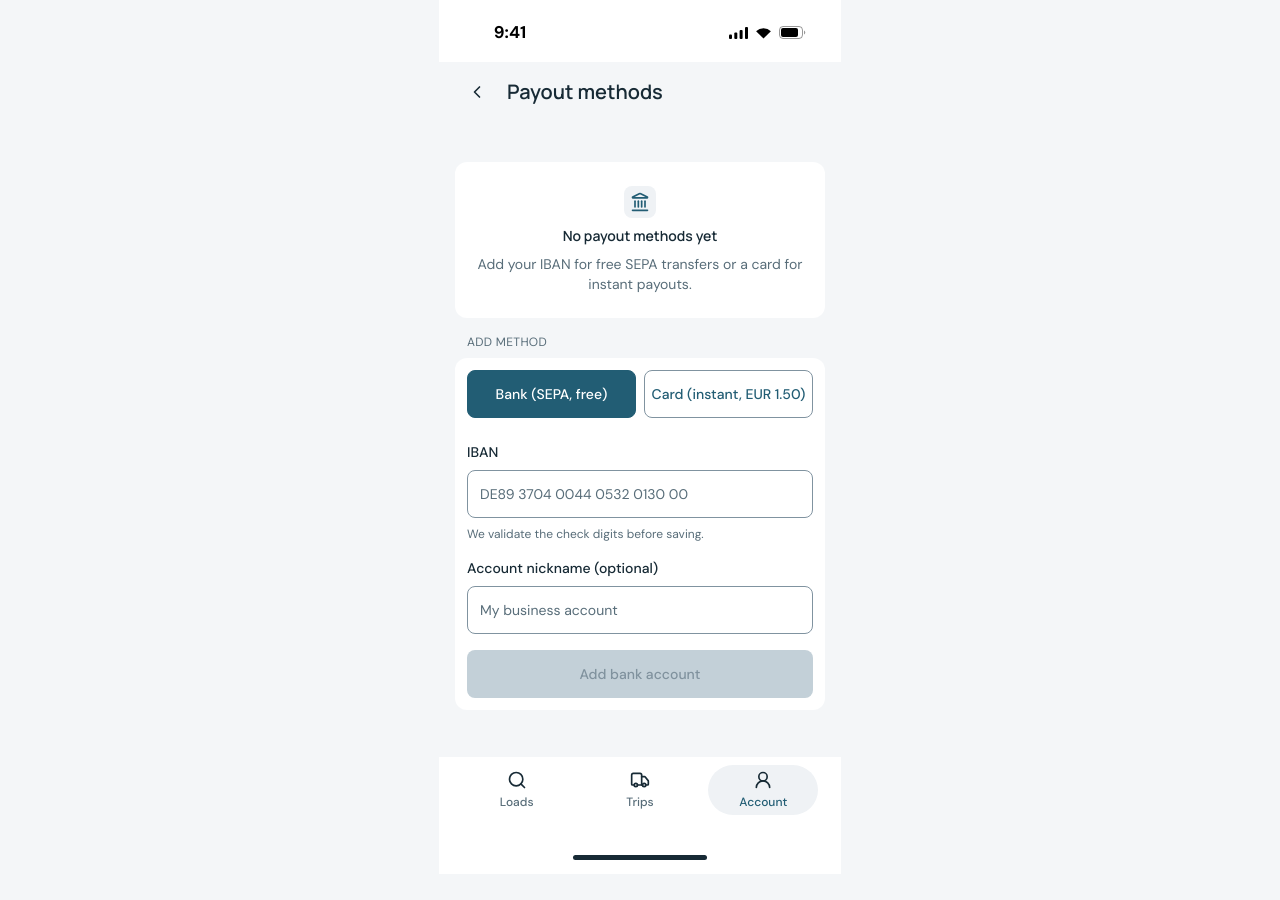
Scenario: adds an IBAN method with check-digit validation
This screenshot has width=1280, height=900.
expect the heading "Add method" is shown: met, box [467, 334, 547, 350]
Type "FR00 0000" into the field labelled "IBAN We validate the check digits before saving." at (640, 494), box [480, 471, 800, 517]
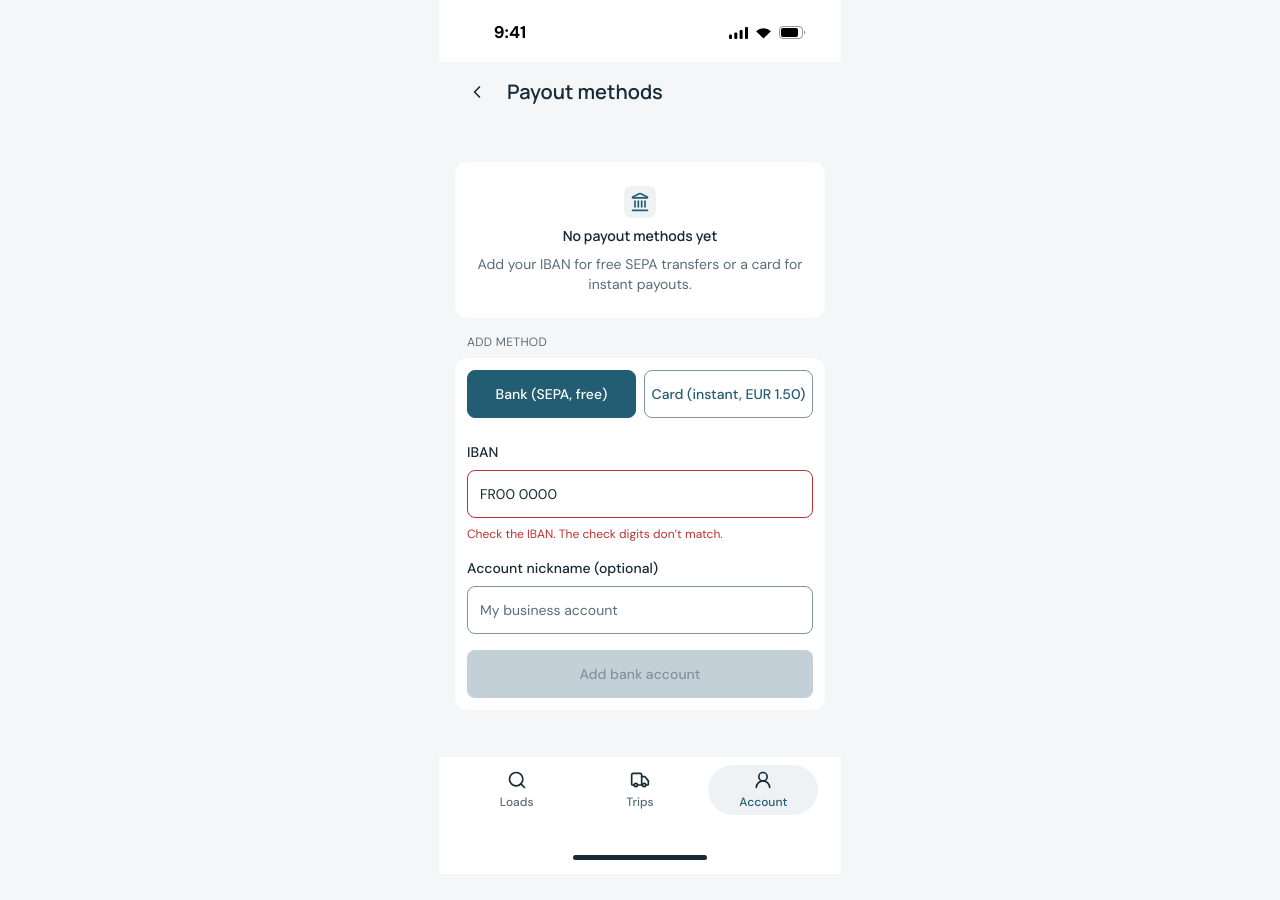
expect the text "Check the IBAN. The check digits don’t match." is shown: met, box [467, 526, 723, 542]
Replace the text in the field labelled "IBAN Check the IBAN. The check digits don’t match." with "de89 3704 0044 0532 0130 00" at (640, 494), box [480, 471, 800, 517]
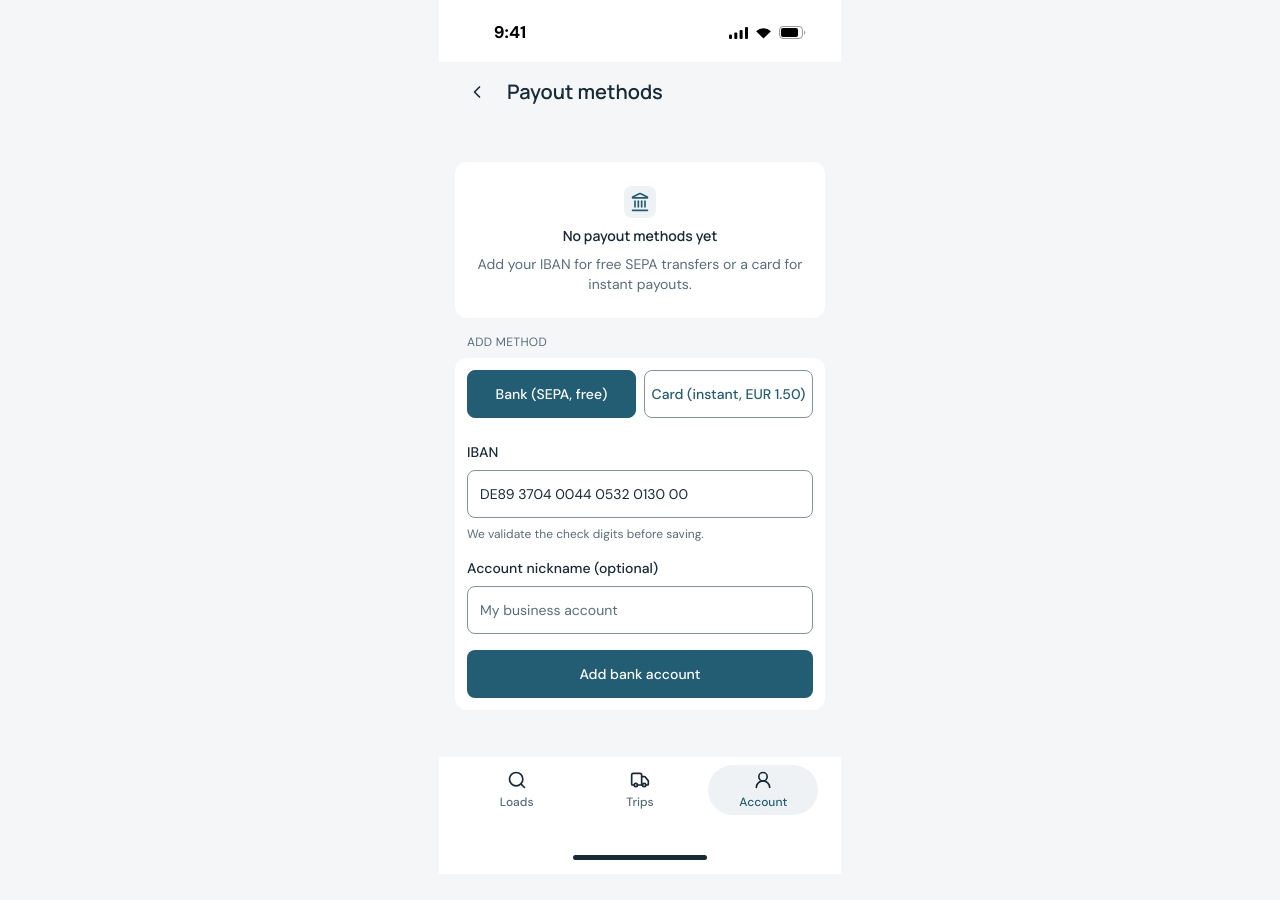
Type "Business" into the field labelled "Account nickname (optional)" at (640, 610), box [480, 587, 800, 633]
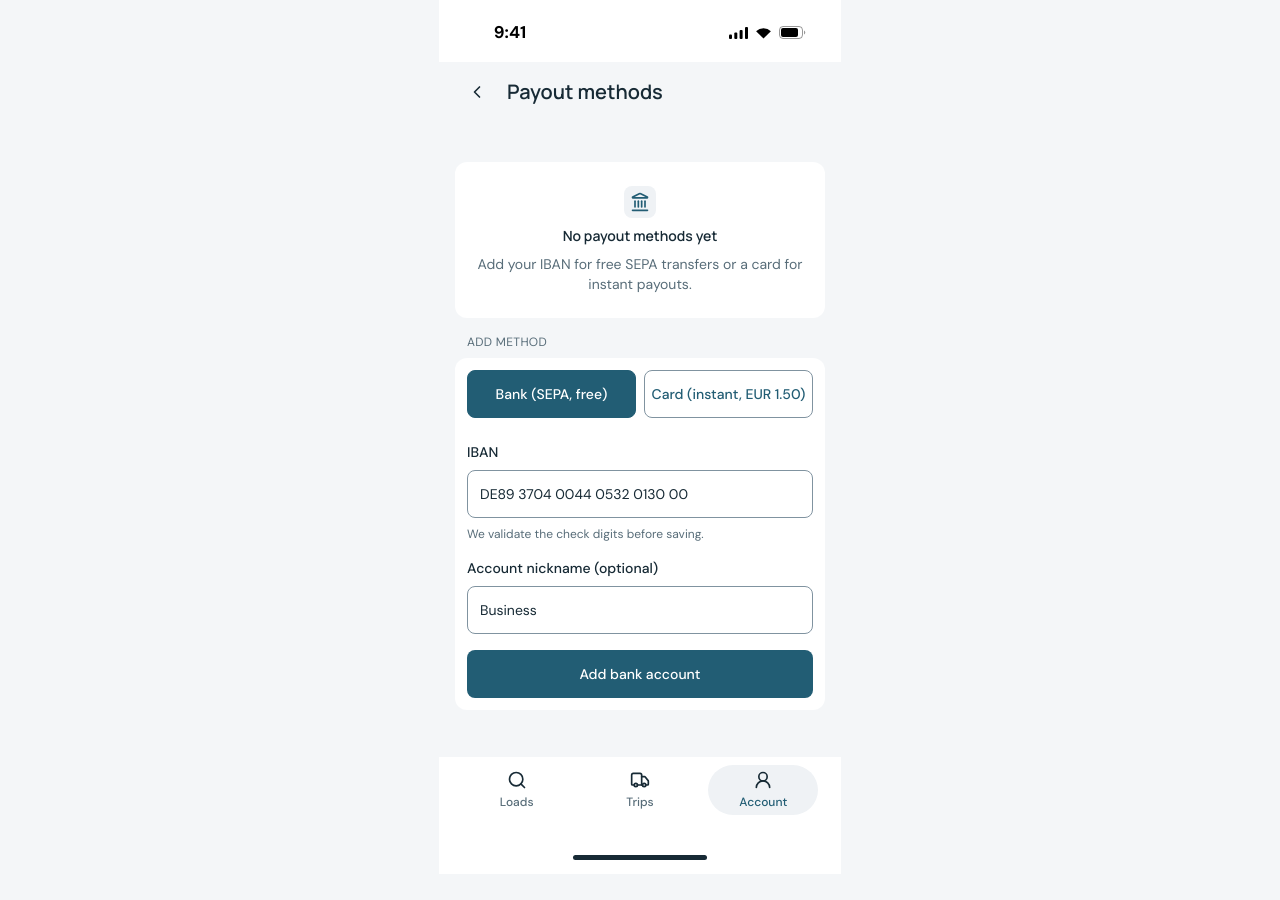
Click the button "Add bank account" at (640, 674), box [467, 650, 813, 698]
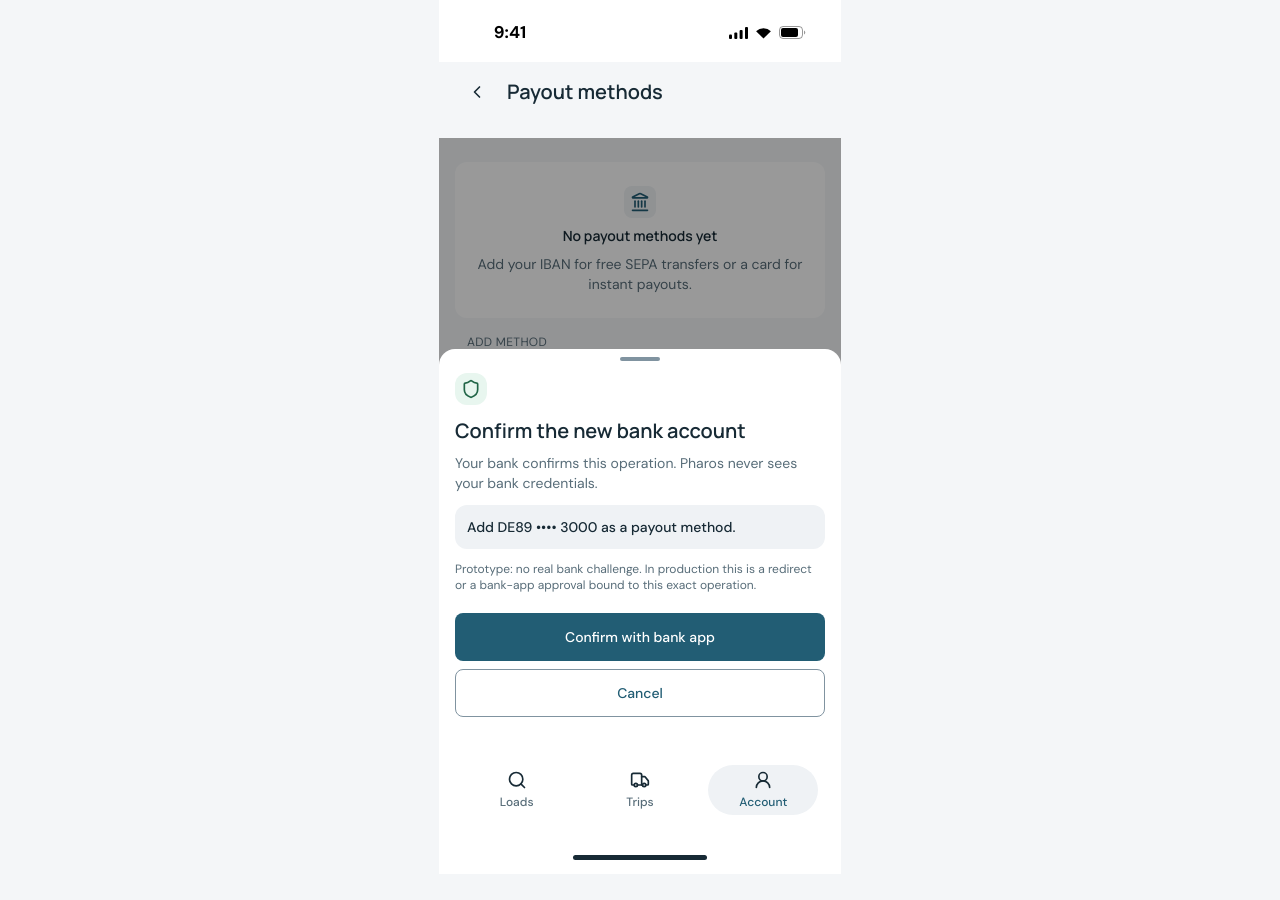
Click the button "Confirm with bank app" at (640, 637), box [455, 613, 825, 661]
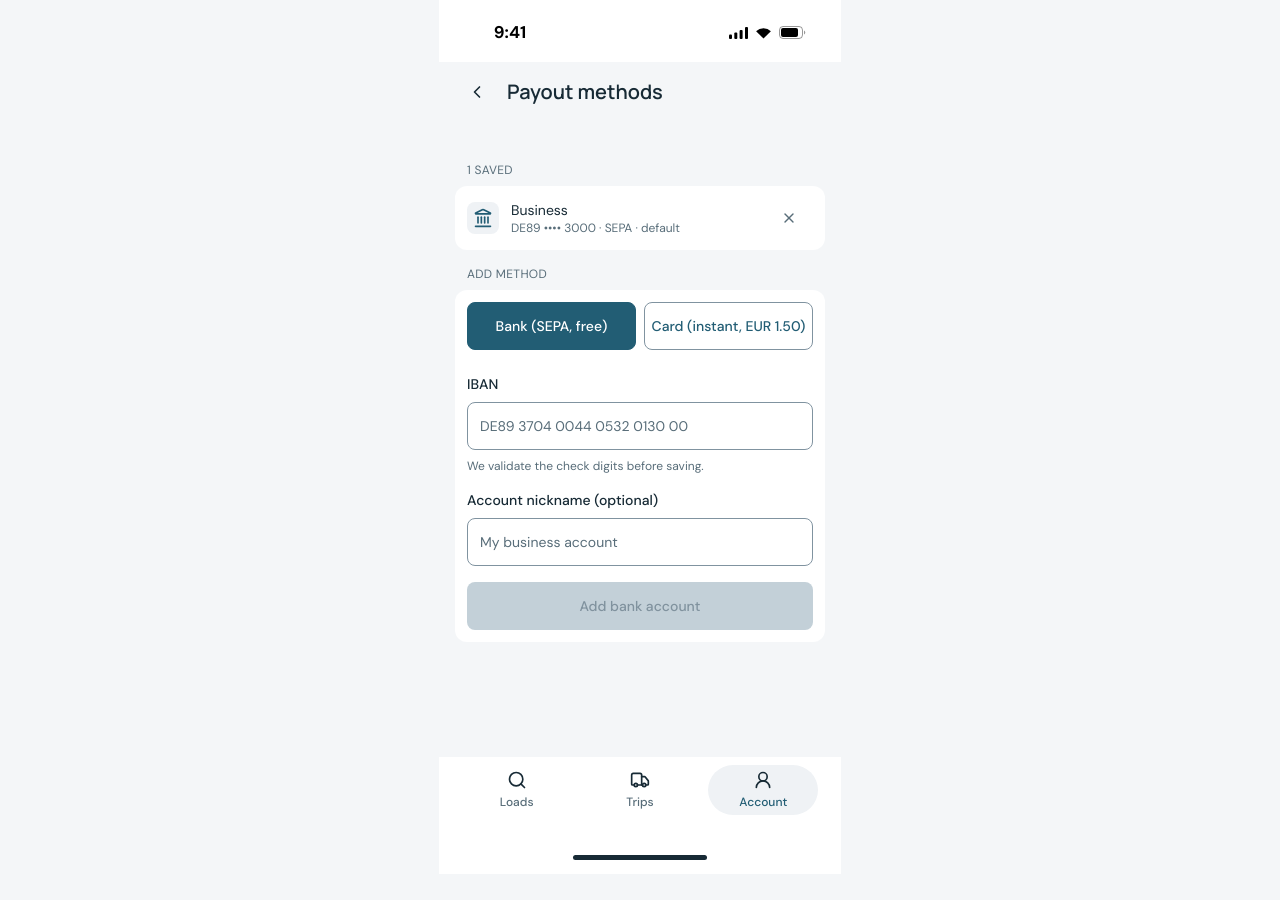
expect the heading "1 saved" is shown: met, box [467, 162, 513, 178]
